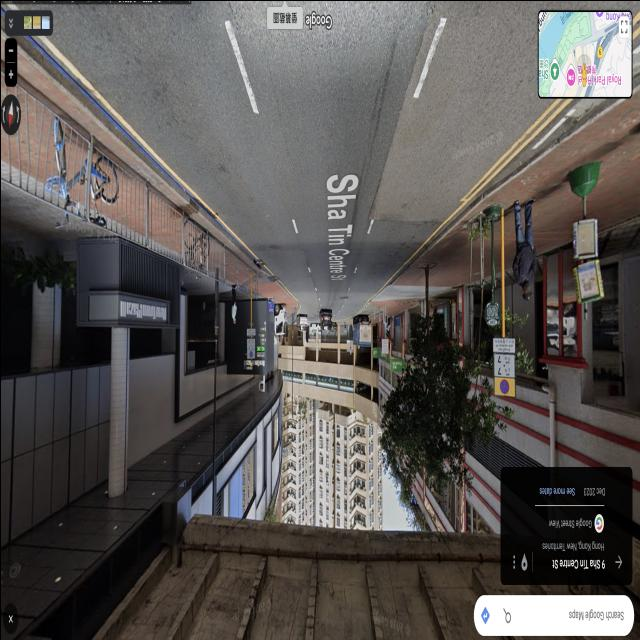Order-Sign: (493, 353, 514, 395), (246, 337, 254, 358)
